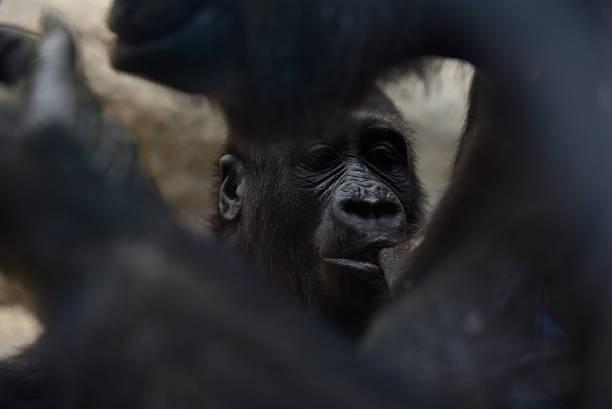gorille_Autres: (203, 61, 433, 328)
